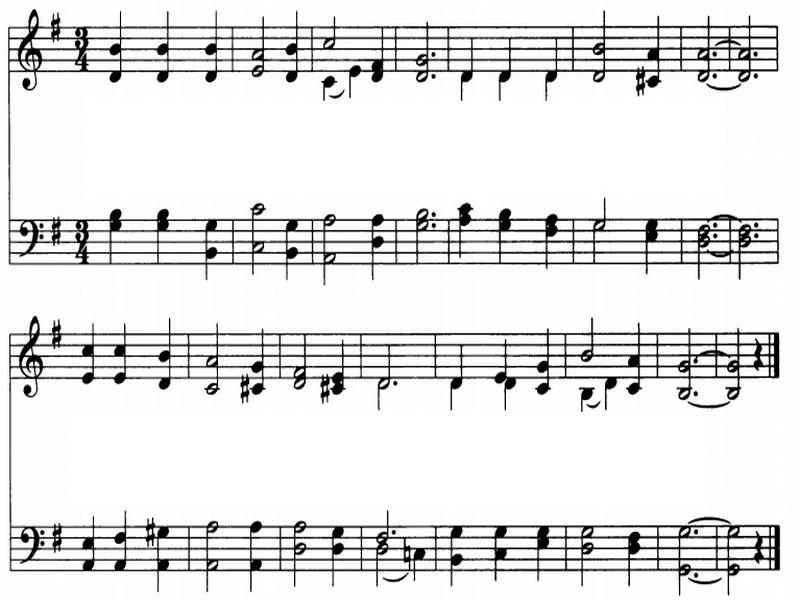B: (584, 1, 612, 91), (237, 12, 271, 82), (200, 314, 223, 398), (246, 196, 268, 280), (694, 4, 715, 87), (319, 207, 341, 286), (572, 523, 596, 595), (290, 319, 313, 393), (725, 319, 746, 399), (690, 219, 714, 287), (587, 179, 617, 233), (288, 516, 308, 593), (724, 522, 745, 594), (737, 8, 757, 82), (731, 220, 754, 279), (575, 316, 603, 364), (414, 14, 432, 88), (671, 521, 688, 599), (207, 514, 222, 600), (677, 326, 692, 402), (590, 220, 611, 268), (318, 5, 339, 52), (376, 343, 397, 389), (371, 377, 391, 412)
CF: (8, 208, 47, 267), (13, 515, 46, 581)
CS: (15, 313, 47, 404), (15, 10, 43, 98)
N: (97, 1, 139, 89), (146, 1, 180, 90), (235, 521, 274, 588), (531, 316, 559, 407), (106, 204, 137, 284), (198, 1, 226, 89), (364, 212, 396, 286), (648, 1, 673, 93), (141, 210, 178, 271), (109, 488, 134, 575), (537, 211, 564, 289), (282, 1, 306, 87), (77, 509, 105, 580), (497, 19, 527, 85), (361, 18, 389, 87), (626, 317, 650, 396), (489, 207, 518, 270), (73, 317, 99, 387), (454, 198, 477, 274), (153, 318, 175, 396), (454, 27, 482, 88), (327, 528, 352, 594), (637, 214, 660, 284), (279, 212, 302, 282), (437, 342, 469, 390), (543, 28, 570, 84), (487, 314, 506, 388), (110, 324, 133, 385), (447, 524, 468, 590), (206, 213, 224, 288), (156, 518, 172, 594), (626, 527, 644, 593), (527, 525, 547, 584), (334, 335, 351, 404), (488, 521, 506, 586), (341, 55, 364, 104), (532, 70, 562, 102), (253, 322, 265, 401), (440, 374, 463, 414), (485, 72, 513, 104), (454, 69, 476, 102), (412, 545, 427, 585), (319, 74, 336, 105), (501, 372, 516, 407), (600, 375, 618, 404), (573, 394, 593, 417)
P: (388, 380, 405, 394), (753, 66, 764, 85), (744, 221, 761, 233), (427, 208, 441, 222), (750, 49, 763, 63), (389, 527, 402, 541), (710, 51, 721, 65), (425, 223, 439, 234), (711, 71, 722, 84), (427, 74, 440, 84), (689, 360, 705, 368), (693, 389, 702, 403), (692, 570, 702, 582), (709, 234, 720, 244), (692, 527, 701, 539), (753, 235, 762, 243), (430, 51, 437, 61), (712, 222, 717, 232)
SN: (747, 530, 766, 574), (748, 337, 768, 377)
SOS: (41, 8, 64, 46), (46, 315, 66, 354), (47, 215, 67, 252), (47, 522, 67, 558), (398, 533, 415, 569), (138, 519, 157, 548), (630, 67, 646, 100), (315, 374, 331, 406), (237, 374, 252, 405)
